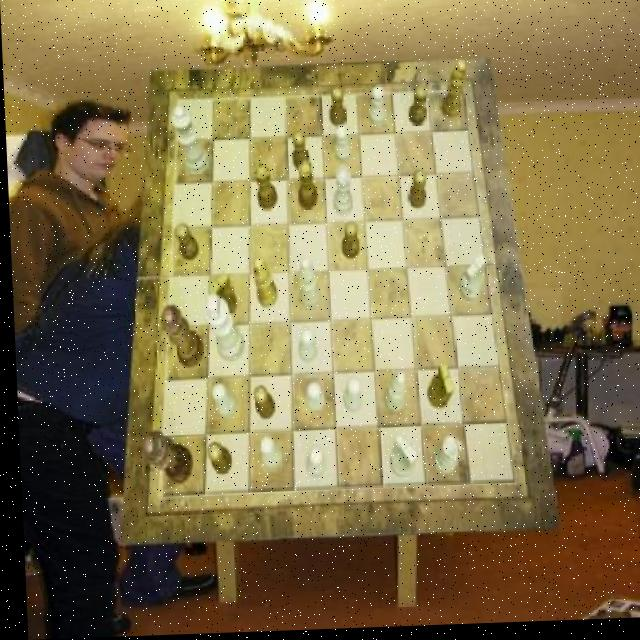bishop: (440, 64, 468, 124), (252, 258, 277, 310)
black-bishop: (140, 432, 191, 487)
black-king: (207, 273, 236, 318), (424, 366, 452, 412)
black-knight: (173, 224, 197, 262), (203, 443, 228, 478), (407, 89, 427, 130), (407, 174, 428, 213), (249, 388, 271, 423), (328, 88, 346, 130), (291, 134, 309, 175), (339, 225, 358, 262)
black-pawn: (157, 305, 202, 370)
black-queen: (252, 164, 276, 213), (295, 162, 316, 212)
black-rook: (297, 259, 320, 313), (379, 373, 405, 416)
white-bishop: (200, 297, 241, 365)
white-king: (456, 259, 485, 306), (385, 438, 413, 481)
white-knight: (209, 384, 234, 420), (254, 437, 277, 472), (367, 89, 385, 131), (340, 379, 359, 416), (302, 448, 323, 481), (295, 330, 314, 365), (333, 127, 350, 166), (302, 385, 322, 416)
white-pawn: (170, 105, 208, 177)
white-queen: (428, 439, 457, 478), (331, 170, 351, 220)
